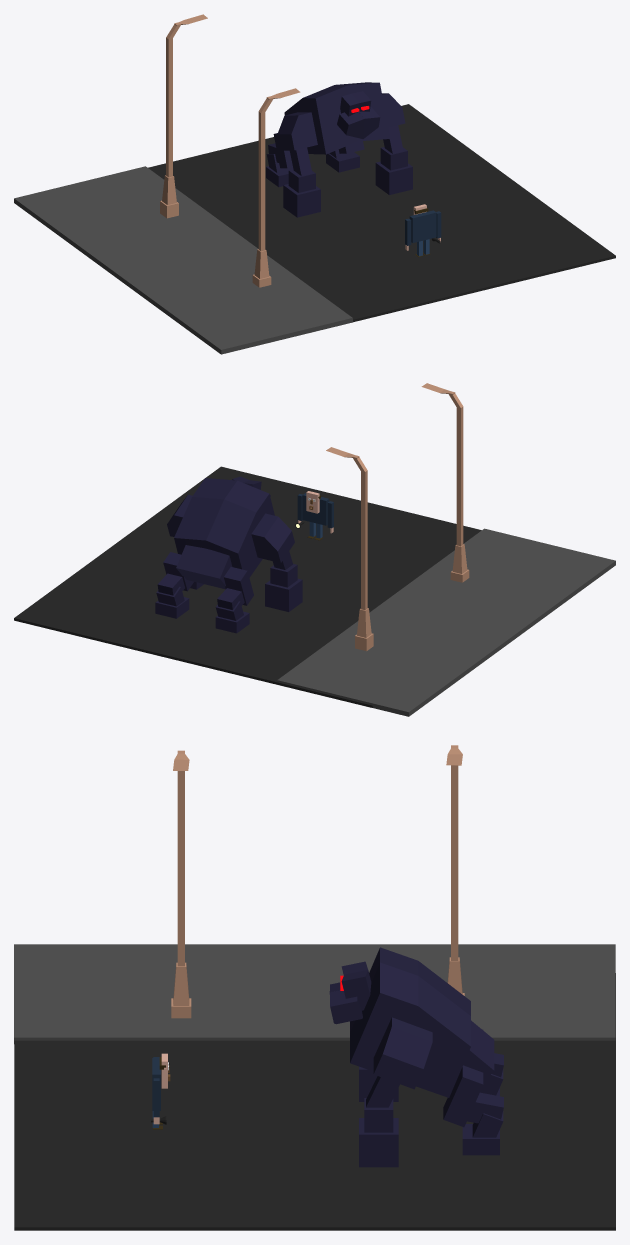
The model's file is scenery.gltf.
The picture shows the model from 3 angles, top to bottom: view 1: azimuth 30°, elevation 25°; view 2: azimuth 150°, elevation 25°; view 3: azimuth 270°, elevation 25°; orthographic projection. The views are drawn at different scales.
Parts seen in each view (by area): view 1: Plane, Plane.001, Cube.003, Cube, Cube.031, Cube.032, Cube.004, Cube.001, Cube.011, Cube.002, Cube.009, Cube.013 (+2 smaller); view 2: Plane, Plane.001, Cube.003, Cube.004, Cube.031, Cube.032, Cube.005, Cube.006, Cube, Cube.009, Cube.007, Cube.008 (+2 smaller); view 3: Plane, Plane.001, Cube.003, Cube.004, Cube.031, Cube.032, Cube, Cube.006, Cube.005, Cube.010, Cube.007, Cube.008 (+4 smaller).
Boxes of the visible parts, bbox=[...] form: Plane: bbox=[148, 104, 615, 322]; Plane.001: bbox=[14, 166, 352, 354]; Cube.003: bbox=[284, 82, 390, 154]; Cube: bbox=[283, 161, 412, 217]; Cube.031: bbox=[252, 88, 300, 287]; Cube.032: bbox=[160, 14, 207, 218]; Cube.004: bbox=[277, 93, 405, 150]; Cube.001: bbox=[288, 147, 407, 192]; Cube.011: bbox=[337, 106, 380, 138]; Cube.002: bbox=[289, 125, 403, 176]; Cube.009: bbox=[266, 152, 359, 187]; Cube.013: bbox=[409, 210, 436, 242]; Plane: bbox=[14, 466, 481, 707]; Plane.001: bbox=[277, 528, 615, 716]; Cube.003: bbox=[174, 478, 274, 577]; Cube.004: bbox=[167, 494, 294, 562]; Cube.031: bbox=[421, 383, 469, 582]; Cube.032: bbox=[326, 447, 373, 651]; Cube.005: bbox=[176, 545, 232, 589]; Cube.006: bbox=[163, 552, 253, 605]; Cube: bbox=[190, 578, 302, 611]; Cube.009: bbox=[155, 597, 249, 633]; Cube.007: bbox=[157, 573, 244, 609]; Cube.008: bbox=[156, 586, 243, 620]; Plane: bbox=[14, 973, 615, 1230]; Plane.001: bbox=[14, 944, 615, 1043]; Cube.003: bbox=[350, 947, 470, 1097]; Cube.004: bbox=[373, 1017, 432, 1089]; Cube.031: bbox=[171, 750, 191, 1018]; Cube.032: bbox=[446, 745, 464, 995]; Cube: bbox=[359, 1066, 398, 1167]; Cube.006: bbox=[443, 1029, 483, 1127]; Cube.005: bbox=[463, 1020, 494, 1081]; Cube.010: bbox=[341, 961, 371, 1010]; Cube.007: bbox=[467, 1053, 503, 1123]; Cube.008: bbox=[472, 1069, 503, 1137].
Size of the model in its own units: 33.27 by 16.63 by 30.25.
